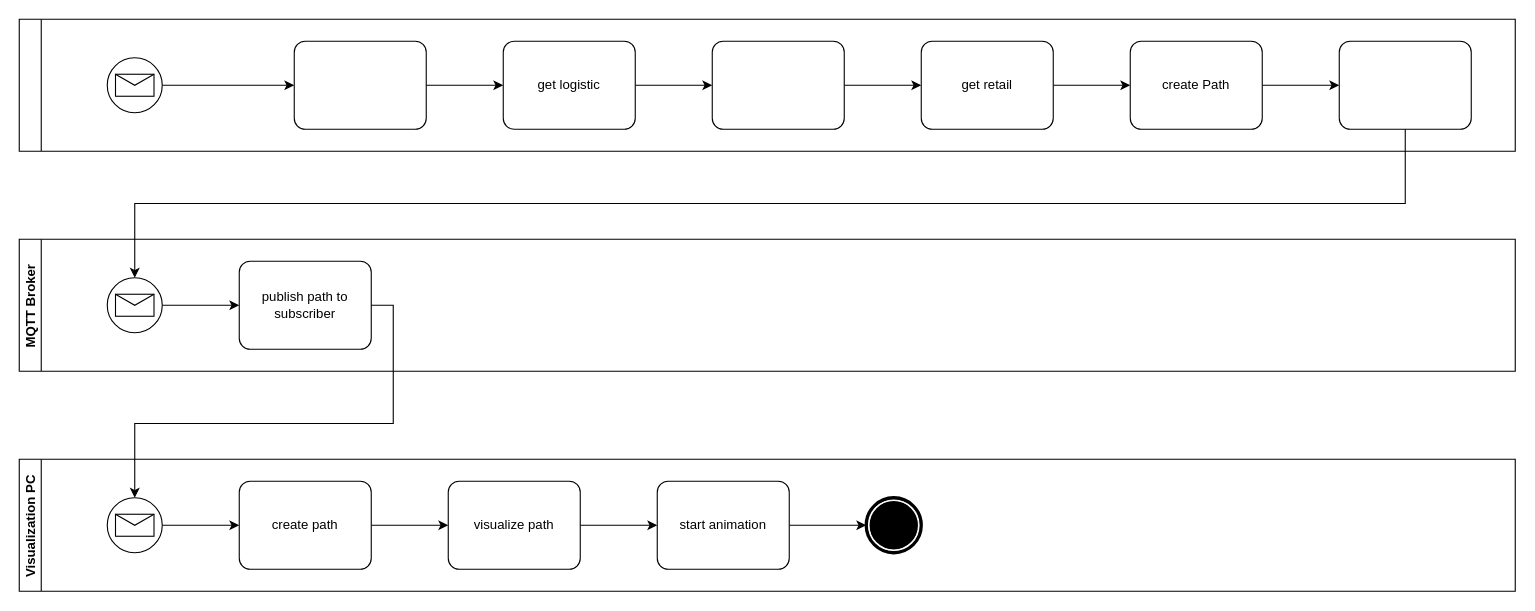
Some shapes in this 1535 by 611 pixel diagram are drawn without their labels. The box of each missing label's shape, as (x1, y1, x2, y2) in pixels:
Farmer Node: (18, 18, 1515, 151)
get country of origin: (293, 40, 426, 129)
get producer: (711, 40, 844, 129)
publish Path: (1338, 40, 1471, 129)
